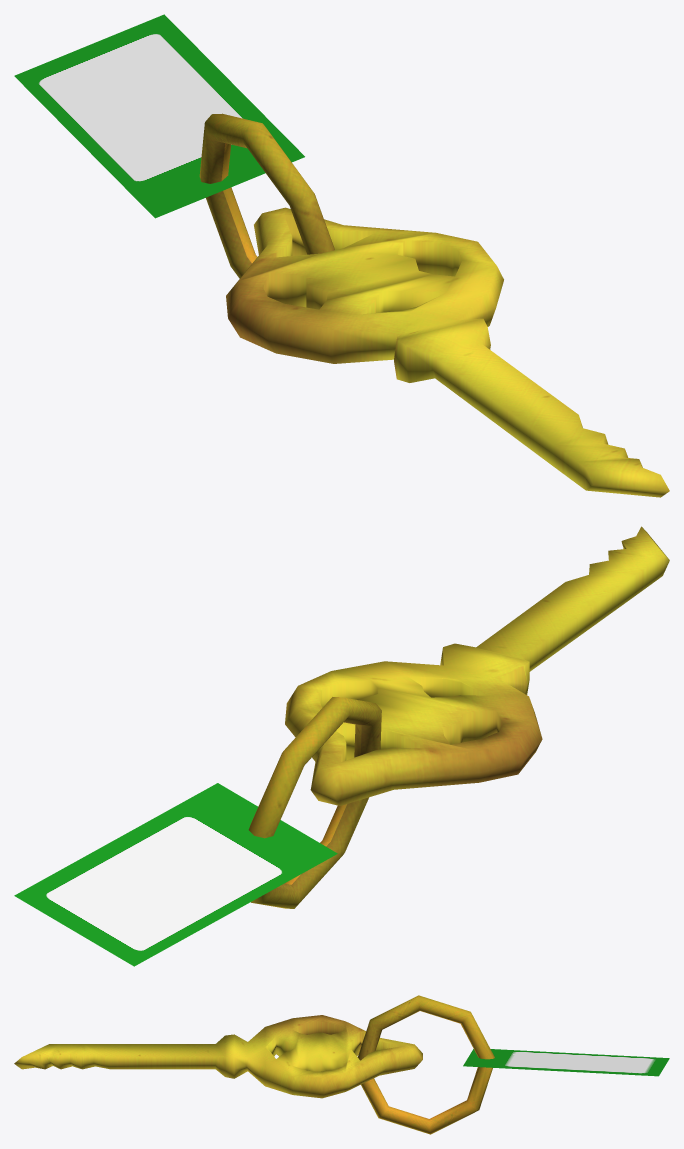
File: GoldenKey.fbx
3 views of the same model, one above another, from view 1: azimuth 30°, elevation 25°; view 2: azimuth 150°, elevation 25°; view 3: azimuth 270°, elevation 25° (orthographic). The views are drawn at different scales.
Parts seen in each view (by area): view 1: rustykey.001; view 2: rustykey.001; view 3: rustykey.001.
Boxes of the visible parts, <box> form: rustykey.001: <box>14,14,669,497</box>; rustykey.001: <box>14,526,669,966</box>; rustykey.001: <box>14,995,669,1134</box>.
Bounding box in the file's own units: 7.72 × 6.7 × 31.6.
